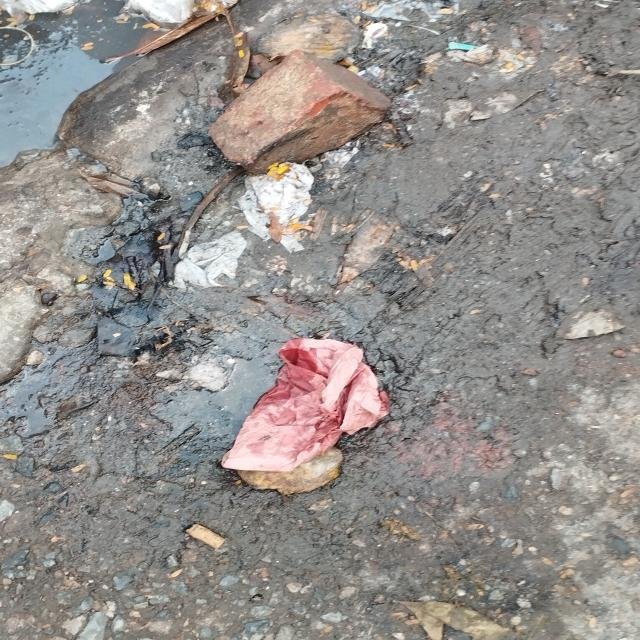paper: (216, 337, 393, 475)
